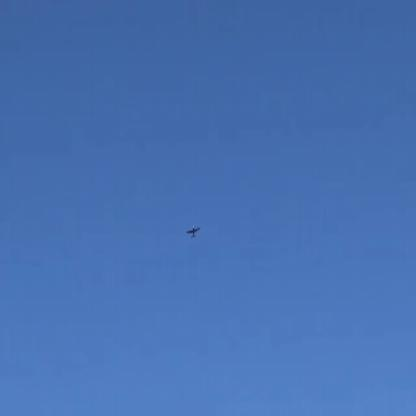CIV_Plane: (185, 225, 202, 237)
